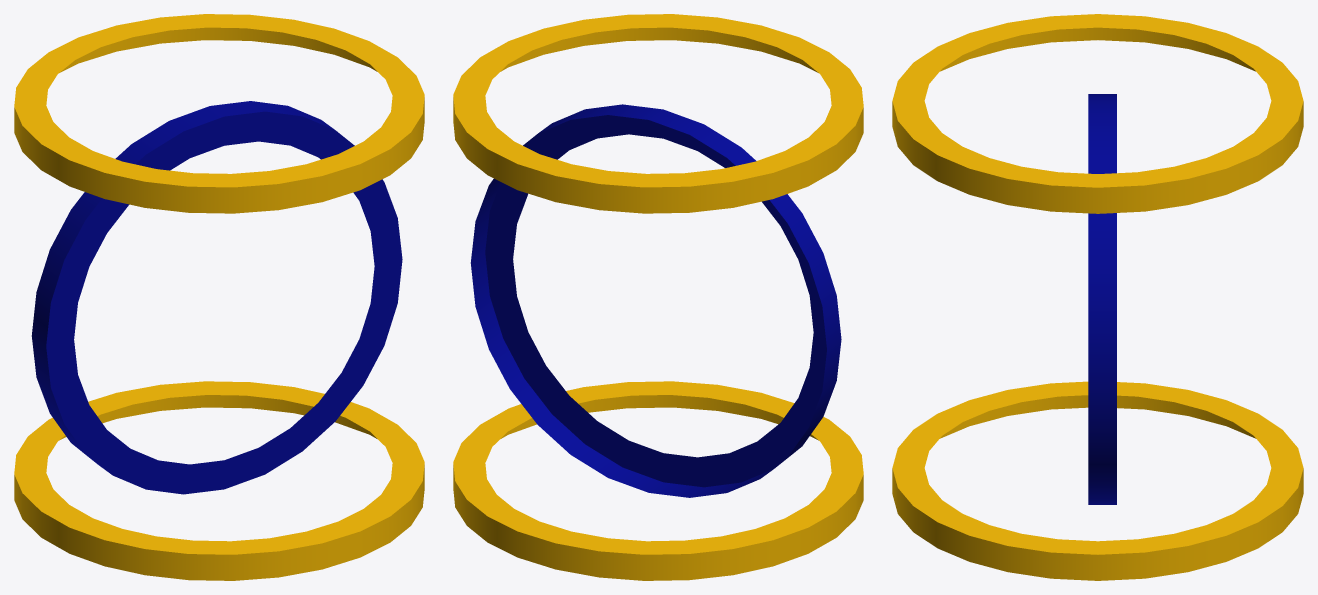
Rendered from Accelerator1.FBX.
3 renders of one model, left to right at view 1: azimuth 30°, elevation 25°; view 2: azimuth 150°, elevation 25°; view 3: azimuth 270°, elevation 25°, orthographic.
Parts seen in each view (by area): view 1: Circle003, Circle002, Circle001; view 2: Circle003, Circle002, Circle001; view 3: Circle002, Circle001, Circle003.
Part boxes in pixels (x1=…): Circle003: x1=31, y1=101, x2=402, y2=494; Circle002: x1=14, y1=14, x2=424, y2=213; Circle001: x1=14, y1=381, x2=424, y2=580; Circle003: x1=470, y1=104, x2=841, y2=497; Circle002: x1=453, y1=14, x2=863, y2=213; Circle001: x1=453, y1=381, x2=863, y2=580; Circle002: x1=892, y1=14, x2=1303, y2=213; Circle001: x1=892, y1=381, x2=1303, y2=580; Circle003: x1=1088, y1=94, x2=1116, y2=504.
Size of the model in its own units: 7.13 by 7.13 by 7.52.
